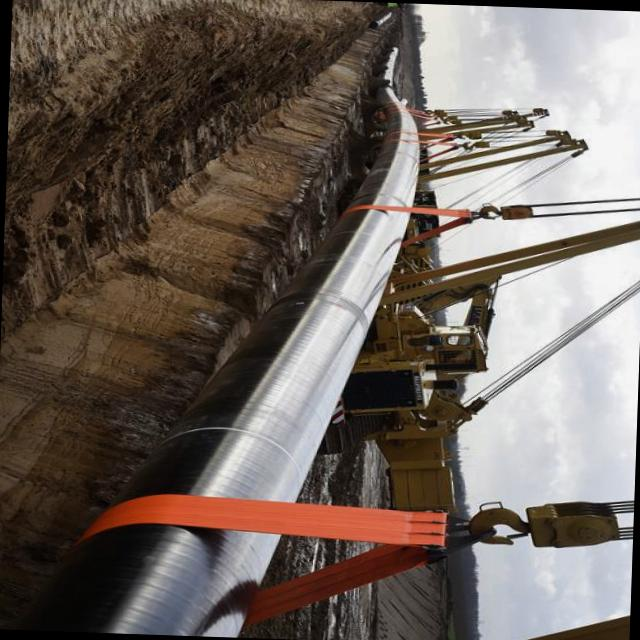gas: (120, 210, 407, 501), (17, 524, 279, 637), (352, 88, 415, 207)
